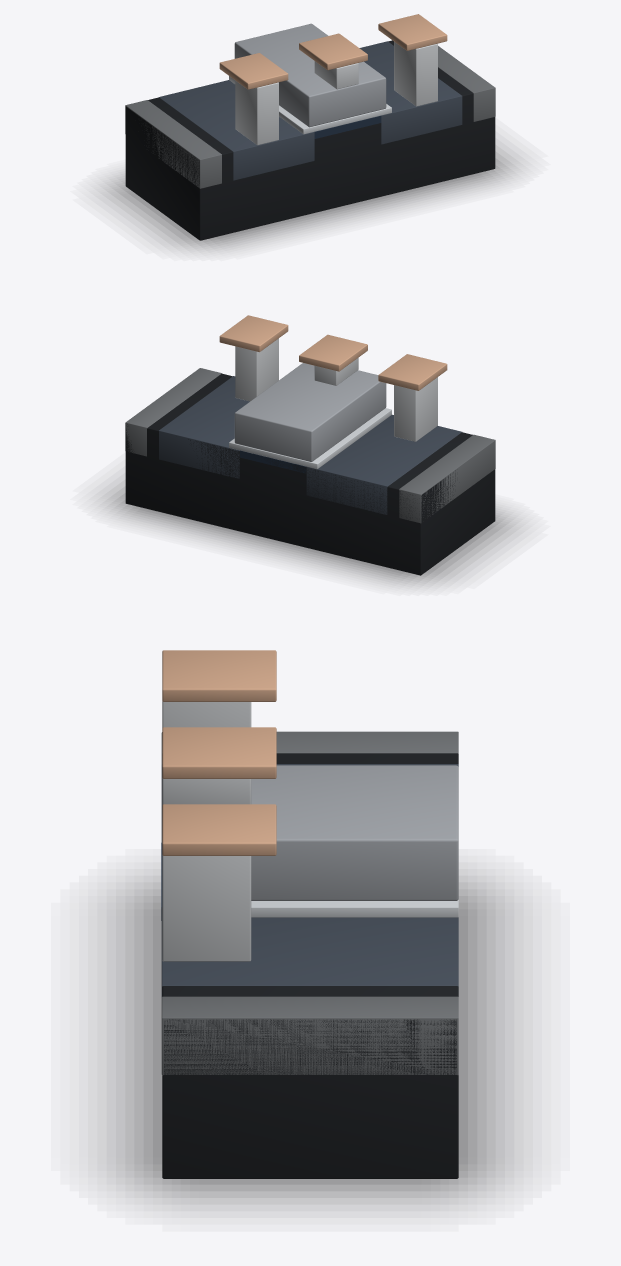
File: transistor.glb
3 views of the same model, one above another, from view 1: azimuth 30°, elevation 25°; view 2: azimuth 150°, elevation 25°; view 3: azimuth 270°, elevation 25° (orthographic). The views are drawn at different scales.
Parts seen in each view (by area): view 1: substrate, contact_shadow, gate, source, drain, sti_left, source_plug, drain_plug, sti_right, source_pad, drain_pad, gate_pad (+3 smaller); view 2: substrate, gate, contact_shadow, source, drain, sti_left, sti_right, source_plug, drain_plug, drain_pad, source_pad, gate_pad (+3 smaller); view 3: substrate, contact_shadow, gate, sti_right, drain, drain_plug, gate_pad, source_pad, drain_pad, sti_left, gate_oxide, gate_plug (+1 smaller).
Part boxes in pixels (x1=…): substrate: x1=125, y1=40, x2=495, y2=240; contact_shadow: x1=100, y1=145, x2=520, y2=250; gate: x1=234, y1=23, x2=386, y2=127; source: x1=159, y1=80, x2=314, y2=180; drain: x1=359, y1=41, x2=462, y2=144; sti_left: x1=125, y1=100, x2=221, y2=188; source_plug: x1=235, y1=80, x2=278, y2=145; drain_plug: x1=394, y1=42, x2=437, y2=106; sti_right: x1=438, y1=46, x2=495, y2=121; source_pad: x1=219, y1=53, x2=288, y2=89; drain_pad: x1=378, y1=14, x2=447, y2=50; gate_pad: x1=299, y1=33, x2=367, y2=70; substrate: x1=125, y1=373, x2=495, y2=575; gate: x1=234, y1=363, x2=386, y2=461; contact_shadow: x1=100, y1=479, x2=520, y2=585; source: x1=306, y1=414, x2=461, y2=514; drain: x1=159, y1=376, x2=249, y2=478; sti_left: x1=399, y1=434, x2=495, y2=523; sti_right: x1=125, y1=368, x2=221, y2=456; source_plug: x1=394, y1=377, x2=437, y2=441; drain_plug: x1=235, y1=338, x2=278, y2=401; drain_pad: x1=219, y1=315, x2=288, y2=352; source_pad: x1=378, y1=354, x2=447, y2=390; gate_pad: x1=299, y1=334, x2=367, y2=371; substrate: x1=162, y1=753, x2=458, y2=1178; contact_shadow: x1=106, y1=875, x2=514, y2=1204; gate: x1=251, y1=765, x2=458, y2=900; sti_right: x1=161, y1=996, x2=458, y2=1075; drain: x1=161, y1=907, x2=458, y2=996; drain_plug: x1=162, y1=855, x2=251, y2=961; gate_pad: x1=162, y1=727, x2=276, y2=778; source_pad: x1=162, y1=650, x2=276, y2=701; drain_pad: x1=162, y1=804, x2=276, y2=855; sti_left: x1=161, y1=731, x2=458, y2=764; gate_oxide: x1=251, y1=899, x2=458, y2=917; gate_plug: x1=162, y1=778, x2=251, y2=804.
Bounding box in the file's own units: 2.4 × 0.7565 × 1.4.
Materials: 9 (1 with a texture image).
